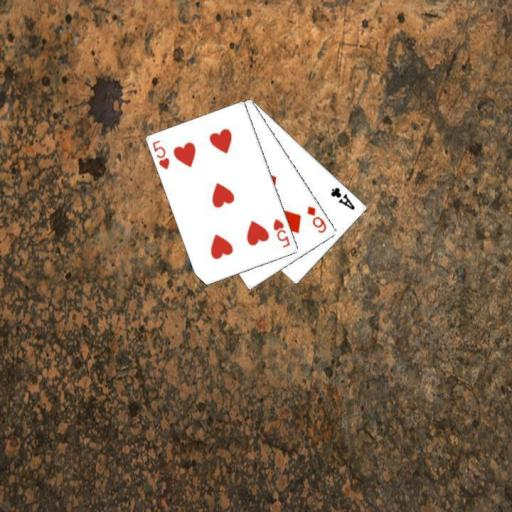card-corner: (328, 184, 357, 212), (304, 202, 328, 234), (270, 216, 292, 250), (150, 138, 172, 172)
